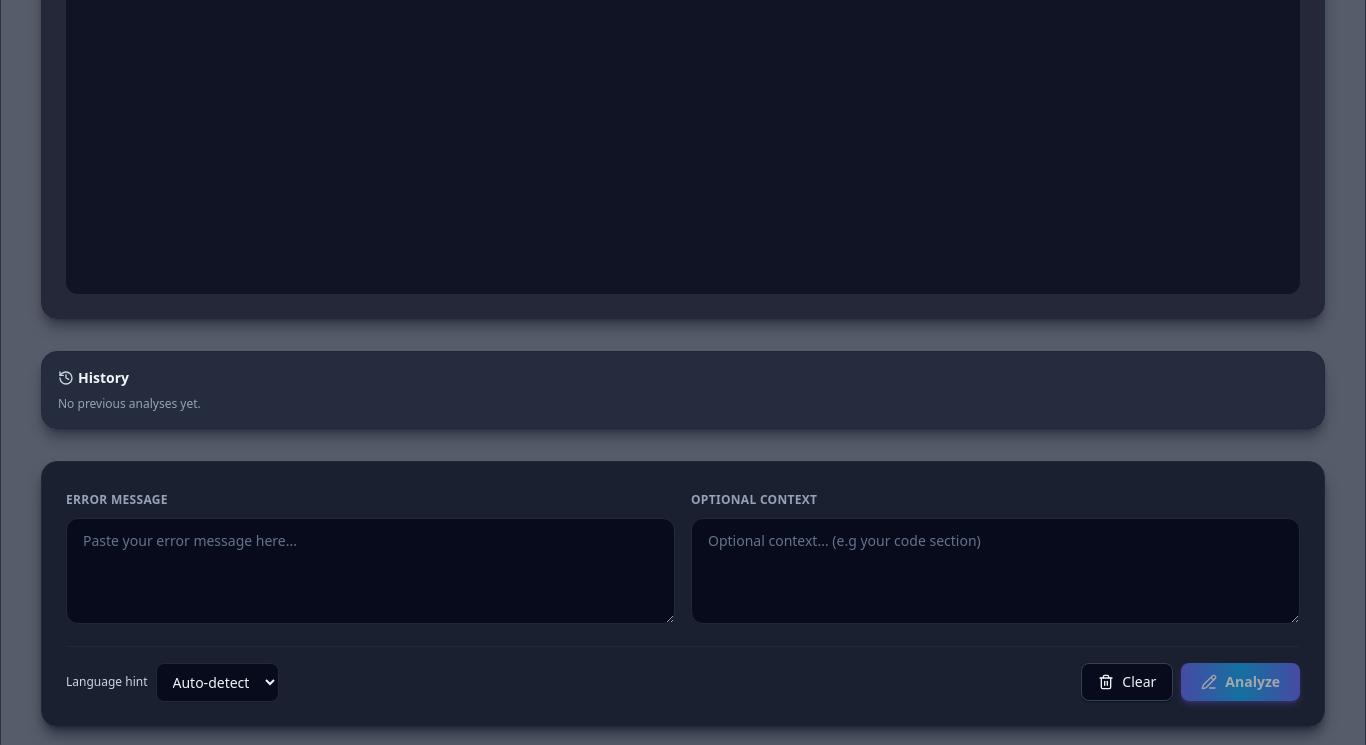
AnalyzerPage Component › submits an error and renders assistant response
The image size is (1366, 745).
(page scrolled)
Type "TypeError: Cannot read properties of undefined" into the text box with placeholder "Paste your error message here...". click: (370, 570)
box: [66,518,675,624]
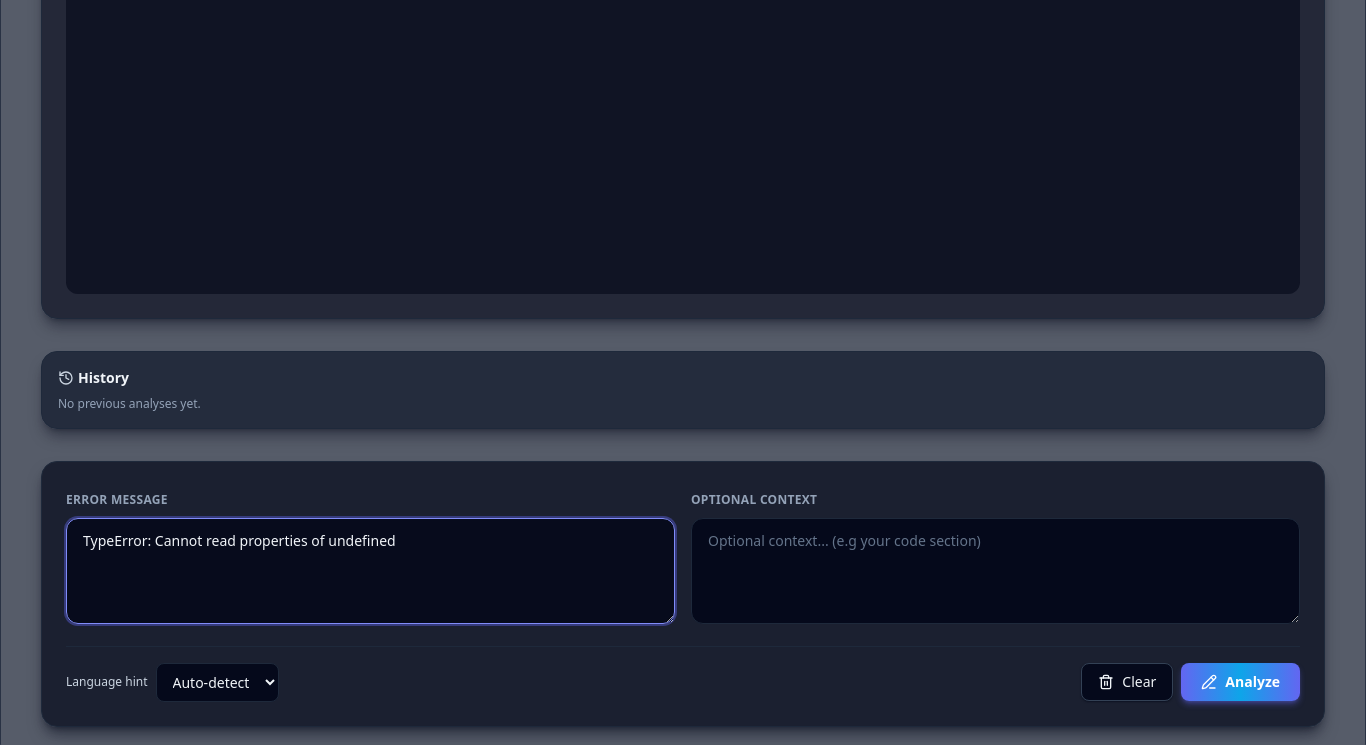
Check: the button "Analyze" is enabled
Click the button "Analyze". click: (1241, 682)
box: [1181,663,1300,701]
(page scrolled)
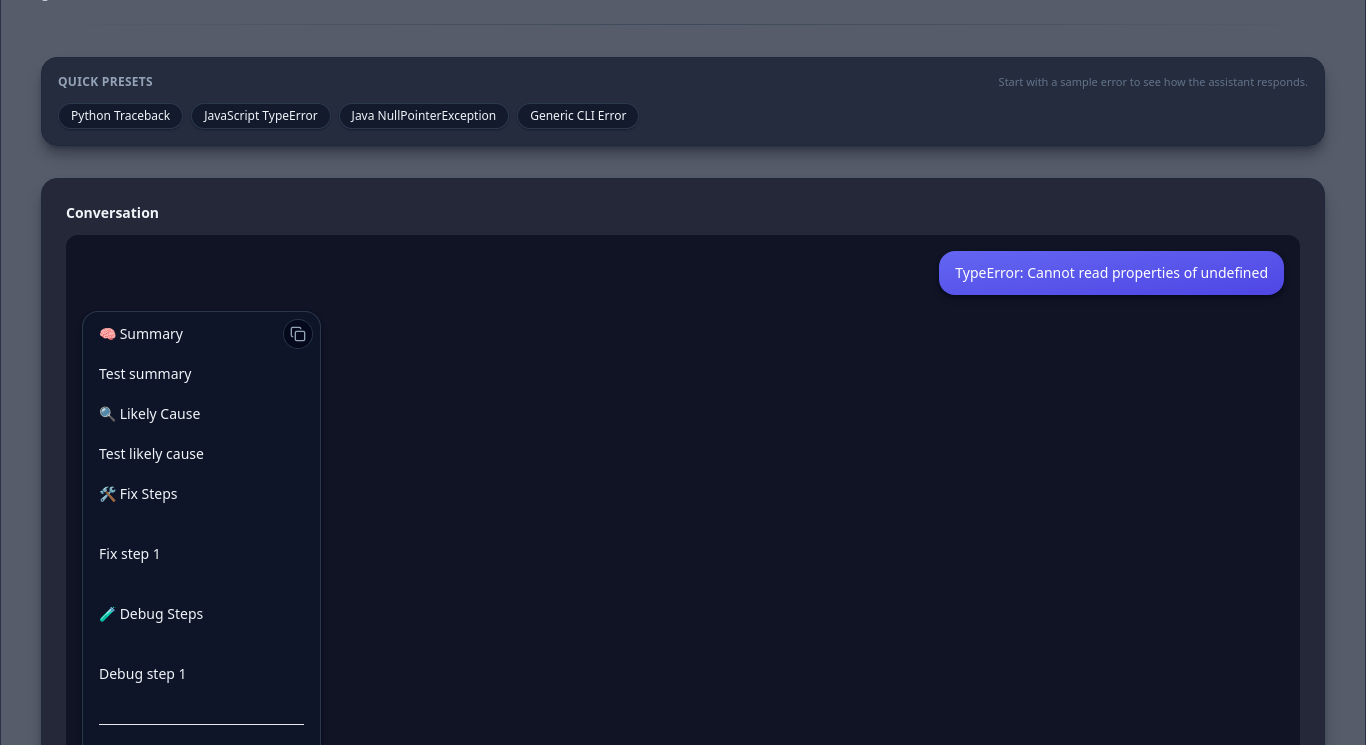
Check: the heading "🧠 Summary" is shown, box [99,324,183,342]
Check: the text "Test summary" is shown, box [99,364,191,382]
